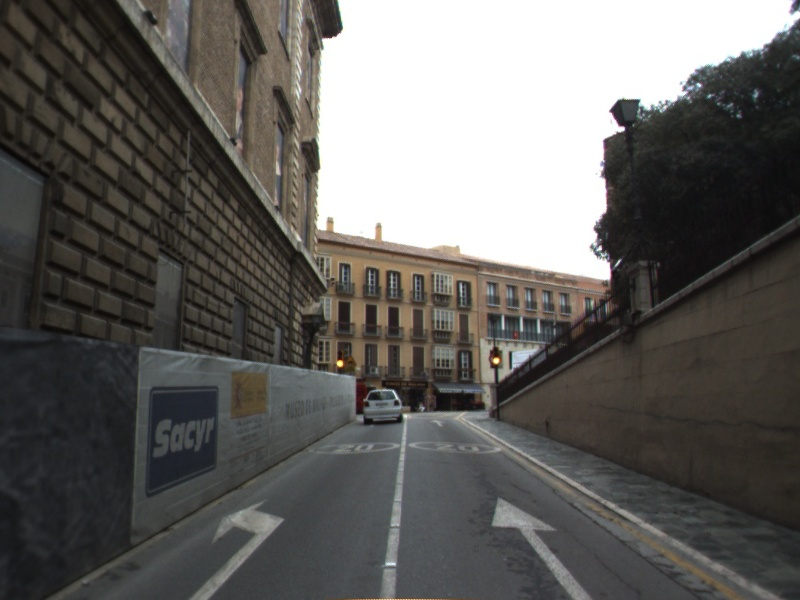LEFT: (185, 497, 286, 600)
STRAIGHT: (490, 495, 595, 600), (429, 418, 447, 428)
